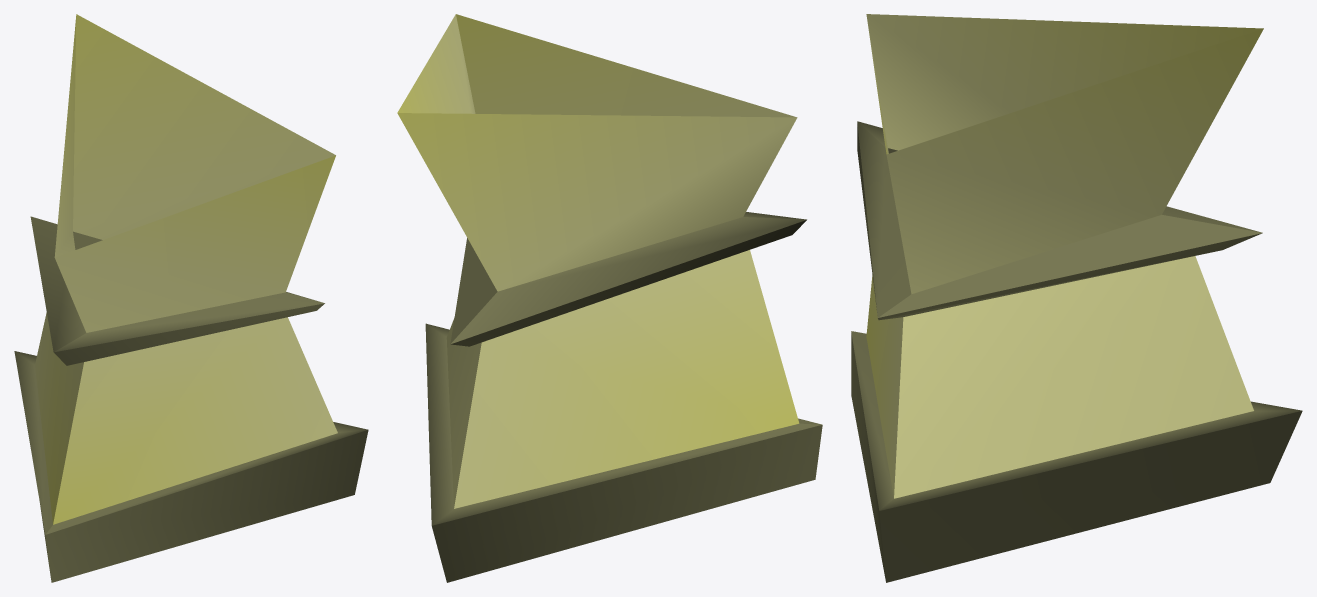
The model's file is c_tower_body_triangle_aa.fbx.
3 renders of one model, left to right at view 1: azimuth 30°, elevation 25°; view 2: azimuth 150°, elevation 25°; view 3: azimuth 270°, elevation 25°, orthographic. The views are drawn at different scales.
Parts seen in each view (by area): view 1: c_tower_body_triangle_aa; view 2: c_tower_body_triangle_aa; view 3: c_tower_body_triangle_aa.
Part boxes in pixels (x1,y1,x2,y2): c_tower_body_triangle_aa: (14,14,368,582); c_tower_body_triangle_aa: (397,14,822,582); c_tower_body_triangle_aa: (851,14,1302,582).
Bounding box in the file's own units: 8.2 × 9.28 × 7.89.
